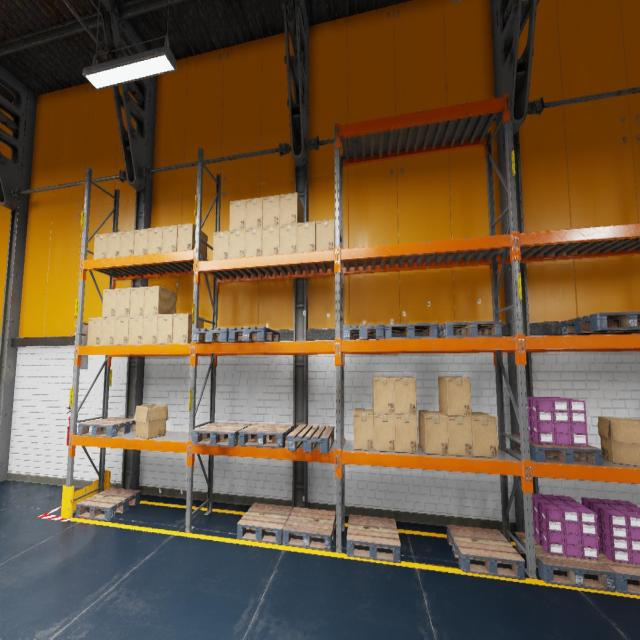box: (598, 416, 640, 466), (440, 412, 472, 456), (418, 411, 449, 455), (438, 376, 471, 416), (471, 412, 498, 458), (133, 404, 168, 438), (177, 223, 207, 258), (172, 313, 204, 343), (392, 376, 416, 415), (144, 286, 176, 314), (395, 415, 418, 453), (353, 409, 374, 450), (374, 414, 396, 452), (372, 376, 394, 414), (280, 192, 303, 225), (316, 219, 335, 251), (297, 221, 316, 252), (262, 195, 280, 226), (245, 197, 262, 229), (229, 199, 246, 231), (279, 224, 297, 254), (262, 226, 279, 256), (157, 314, 173, 344), (142, 314, 158, 344), (213, 230, 229, 260), (245, 228, 262, 256), (129, 287, 145, 316), (162, 225, 178, 253), (229, 230, 245, 258), (114, 316, 129, 345), (147, 227, 163, 254), (128, 316, 143, 344), (100, 317, 115, 345), (87, 317, 102, 345), (102, 289, 117, 317), (116, 288, 130, 316), (106, 232, 121, 258), (134, 228, 148, 255), (120, 230, 134, 257), (94, 233, 108, 259)
pallets: (515, 532, 615, 592), (446, 525, 526, 580), (509, 434, 603, 466), (346, 514, 401, 563), (282, 507, 336, 551), (237, 503, 293, 545), (76, 488, 140, 521), (597, 551, 640, 596), (560, 311, 640, 335), (192, 422, 252, 447), (238, 423, 294, 448), (288, 425, 334, 453), (78, 418, 136, 438), (438, 320, 502, 338), (384, 322, 438, 339), (228, 326, 280, 342), (193, 328, 238, 343), (342, 324, 384, 339)
